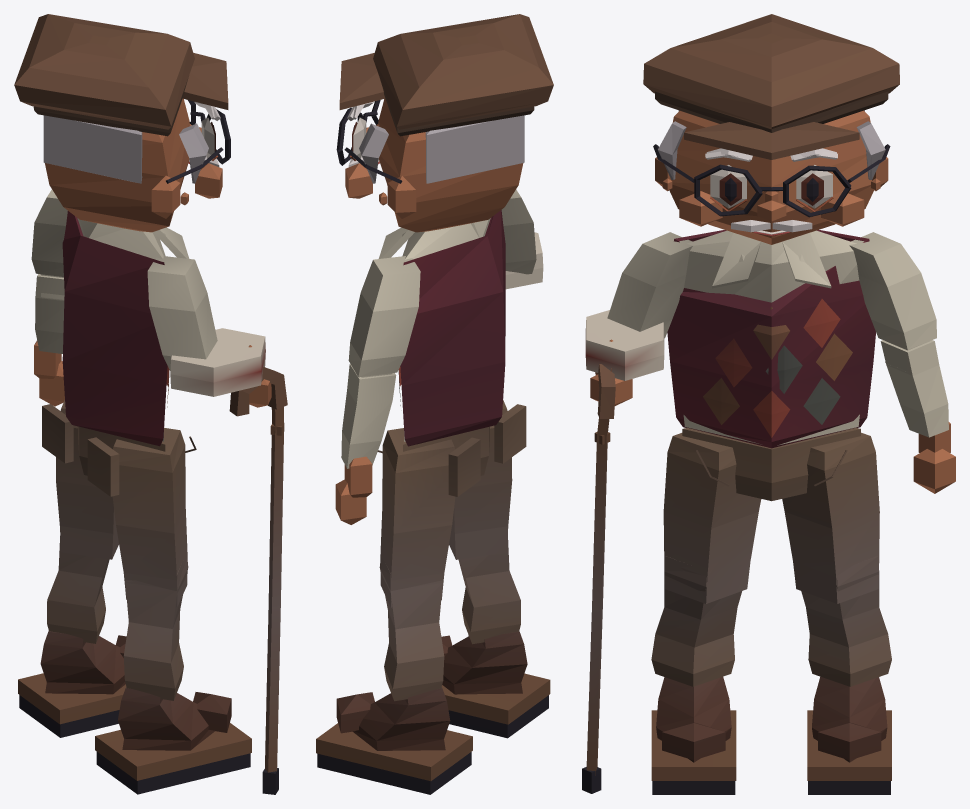
3 views of the same model, side by side, from view 1: azimuth 30°, elevation 25°; view 2: azimuth 150°, elevation 25°; view 3: azimuth 270°, elevation 25° (orthographic).
Parts seen in each view (by area): view 1: head_pal_picketWhite, torso_pal_picketWhite, footR_pal_picketWhite, legR_pal_picketWhite, head_pal_skinWarm, footL_pal_picketWhite, handR_pal_picketWhite, shinR_pal_picketWhite, armR_pal_picketWhite, legL_pal_picketWhite, foreArmR_pal_picketWhite, shinL_pal_picketWhite (+4 smaller); view 2: head_pal_picketWhite, torso_pal_picketWhite, footL_pal_picketWhite, legL_pal_picketWhite, head_pal_skinWarm, footR_pal_picketWhite, armL_pal_picketWhite, shinL_pal_picketWhite, legR_pal_picketWhite, shinR_pal_picketWhite, hip_pal_picketWhite, foreArmL_pal_picketWhite (+3 smaller); view 3: torso_pal_picketWhite, head_pal_picketWhite, legR_pal_picketWhite, head_pal_skinWarm, legL_pal_picketWhite, footR_pal_picketWhite, footL_pal_picketWhite, shinL_pal_picketWhite, shinR_pal_picketWhite, armL_pal_picketWhite, armR_pal_picketWhite, handR_pal_picketWhite (+6 smaller).
Part boxes in pixels (x1=…): head_pal_picketWhite: x1=14, y1=14, x2=230, y2=183; torso_pal_picketWhite: x1=62, y1=211, x2=189, y2=446; footR_pal_picketWhite: x1=95, y1=687, x2=251, y2=794; legR_pal_picketWhite: x1=112, y1=428, x2=187, y2=607; head_pal_skinWarm: x1=45, y1=98, x2=222, y2=232; footL_pal_picketWhite: x1=18, y1=631, x2=126, y2=737; handR_pal_picketWhite: x1=229, y1=367, x2=287, y2=794; shinR_pal_picketWhite: x1=123, y1=557, x2=188, y2=700; armR_pal_picketWhite: x1=147, y1=256, x2=217, y2=370; legL_pal_picketWhite: x1=56, y1=400, x2=118, y2=559; foreArmR_pal_picketWhite: x1=170, y1=328, x2=265, y2=396; shinL_pal_picketWhite: x1=47, y1=536, x2=109, y2=643; head_pal_picketWhite: x1=336, y1=14, x2=553, y2=183; torso_pal_picketWhite: x1=378, y1=210, x2=505, y2=446; footL_pal_picketWhite: x1=316, y1=687, x2=472, y2=794; legL_pal_picketWhite: x1=380, y1=428, x2=455, y2=607; head_pal_skinWarm: x1=345, y1=98, x2=523, y2=232; footR_pal_picketWhite: x1=441, y1=631, x2=550, y2=738; armL_pal_picketWhite: x1=348, y1=256, x2=420, y2=377; shinL_pal_picketWhite: x1=379, y1=557, x2=444, y2=701; legR_pal_picketWhite: x1=449, y1=400, x2=512, y2=559; shinR_pal_picketWhite: x1=458, y1=535, x2=520, y2=644; hip_pal_picketWhite: x1=377, y1=404, x2=526, y2=496; foreArmL_pal_picketWhite: x1=341, y1=364, x2=396, y2=468; torso_pal_picketWhite: x1=667, y1=230, x2=875, y2=448; head_pal_picketWhite: x1=643, y1=14, x2=899, y2=235; legR_pal_picketWhite: x1=663, y1=433, x2=761, y2=603; head_pal_skinWarm: x1=655, y1=110, x2=888, y2=244; legL_pal_picketWhite: x1=782, y1=432, x2=879, y2=603; footR_pal_picketWhite: x1=651, y1=677, x2=736, y2=794; footL_pal_picketWhite: x1=807, y1=676, x2=891, y2=794; shinL_pal_picketWhite: x1=801, y1=556, x2=891, y2=686; shinR_pal_picketWhite: x1=651, y1=556, x2=741, y2=686; armL_pal_picketWhite: x1=849, y1=232, x2=936, y2=349; armR_pal_picketWhite: x1=607, y1=232, x2=692, y2=338; handR_pal_picketWhite: x1=582, y1=364, x2=615, y2=793.
Bounding box in the file's own units: 0.4377 × 1.39 × 0.6622.
